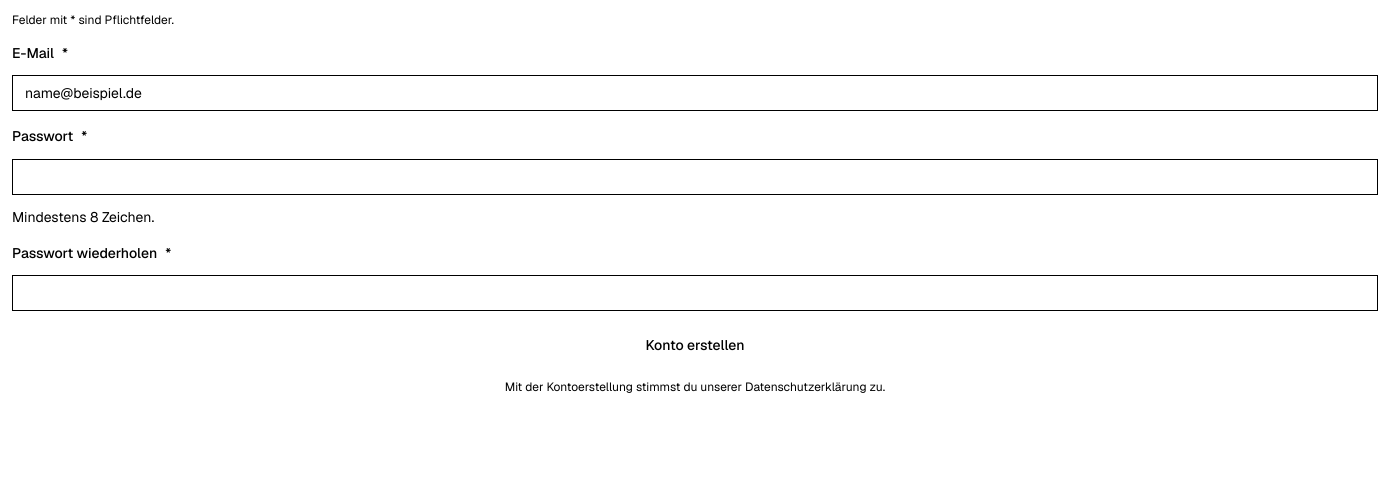
Test case: SignUpForm › setzt nach leerem Absenden den Fokus ins erste fehlerhafte Feld und sagt, was fehlt
What coordinates should you click on to do the following:
click the button "Konto erstellen"
I would click on:
 (695, 345)
Its box is left=12, top=327, right=1378, bottom=363.
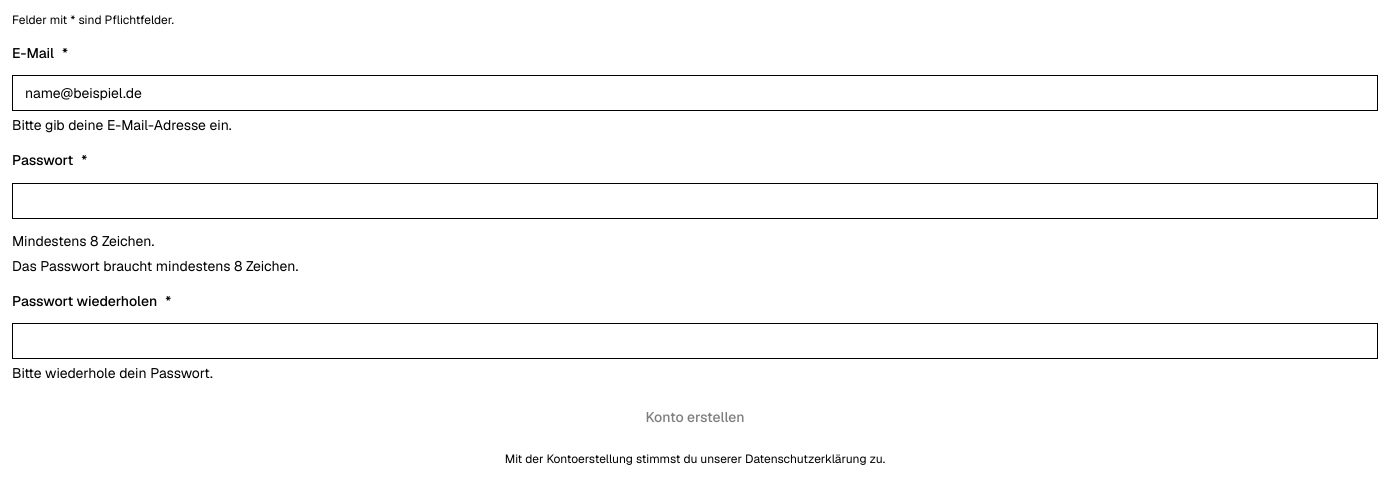
Now the text "Bitte gib deine E-Mail-Adresse ein." is shown, box left=12, top=116, right=232, bottom=134
